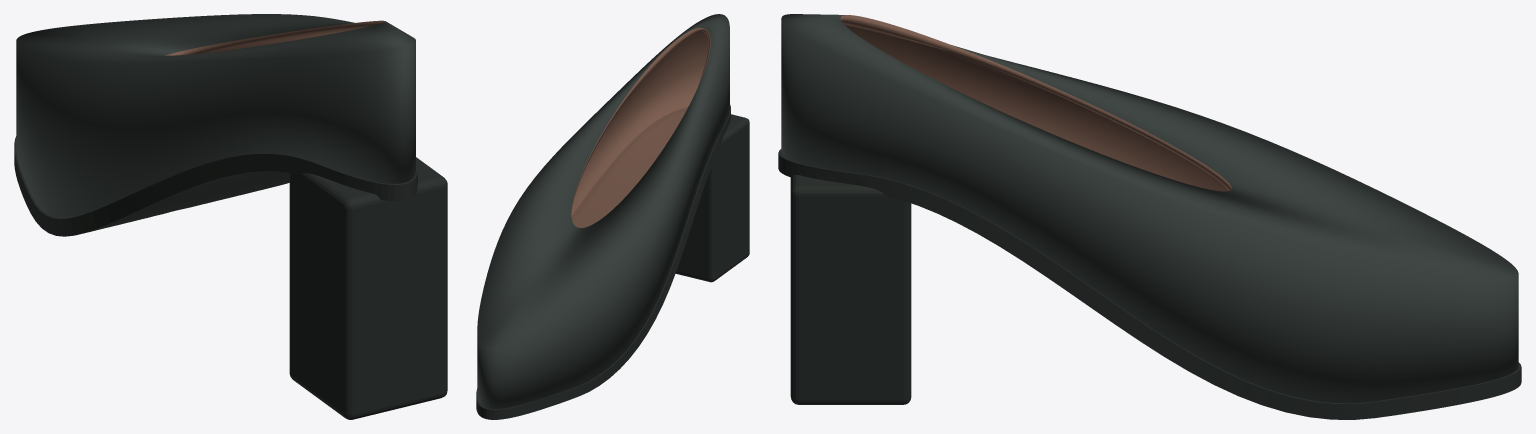
Rendered from A-NEW-20261027-HIGH-HEEL-001_LOD0_R4.fbx.
3 renders of one model, left to right at view 1: azimuth 30°, elevation 25°; view 2: azimuth 150°, elevation 25°; view 3: azimuth 270°, elevation 25°, orthographic. The views are drawn at different scales.
Parts seen in each view (by area): view 1: complete hollow shoe upper, tall supporting block heel, continuous sloping arch outsole; view 2: complete hollow shoe upper, tall supporting block heel, continuous sloping arch outsole; view 3: complete hollow shoe upper, tall supporting block heel, continuous sloping arch outsole.
Part boxes in pixels (box(x1,y1,x2,y2)): complete hollow shoe upper: box(16, 14, 415, 218); tall supporting block heel: box(289, 157, 447, 419); continuous sloping arch outsole: box(14, 136, 417, 236); complete hollow shoe upper: box(477, 14, 729, 408); tall supporting block heel: box(675, 114, 749, 282); continuous sloping arch outsole: box(476, 105, 730, 419); complete hollow shoe upper: box(781, 14, 1518, 403); tall supporting block heel: box(790, 174, 911, 404); continuous sloping arch outsole: box(778, 149, 1521, 419).
Bounding box in the file's own units: 8.6 × 15 × 27.72.
